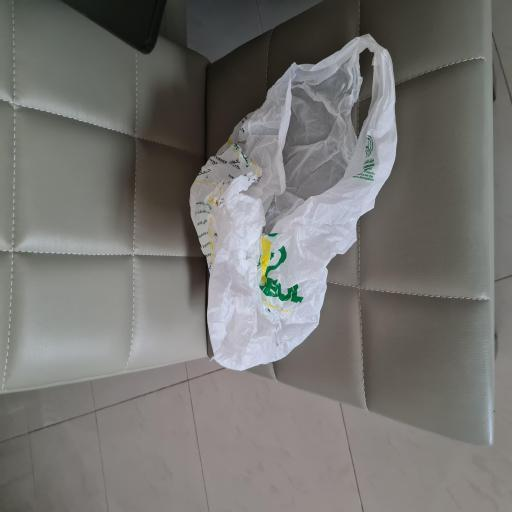plastic bag: (188, 35, 400, 374)
